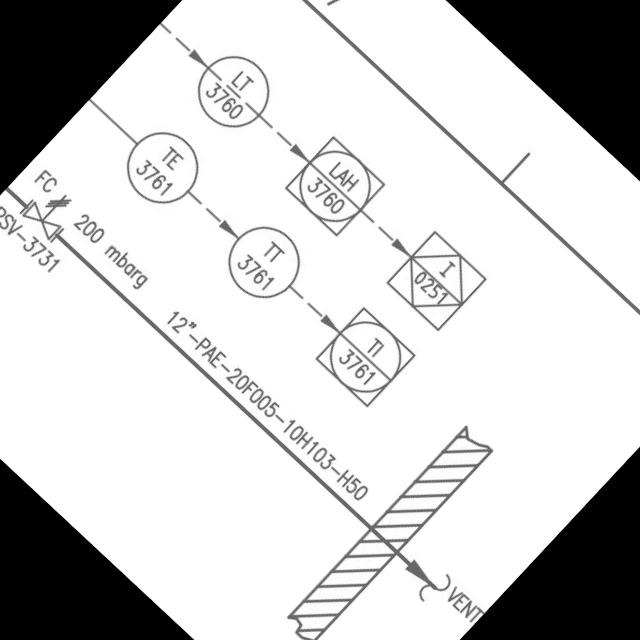RPV: (14, 172, 88, 246)
